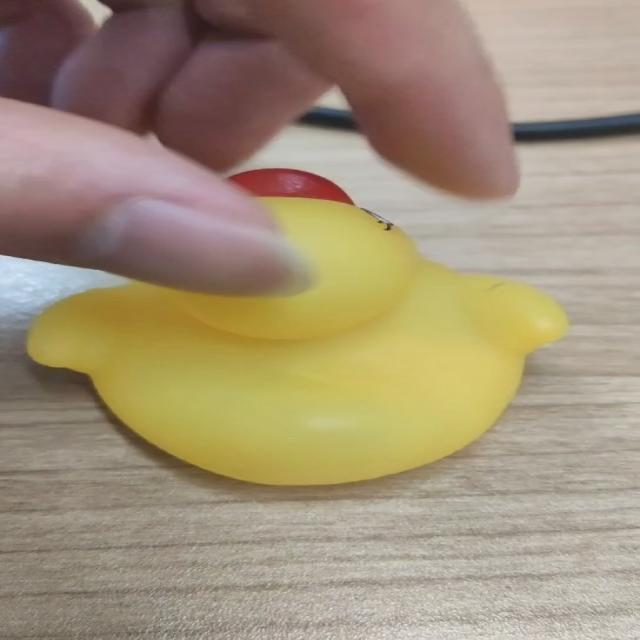rubber-duck: (27, 169, 566, 483)
